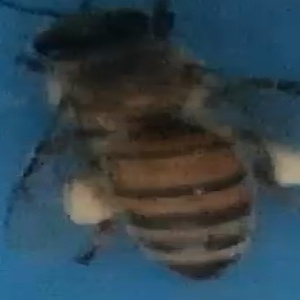bee: (8, 2, 297, 285)
